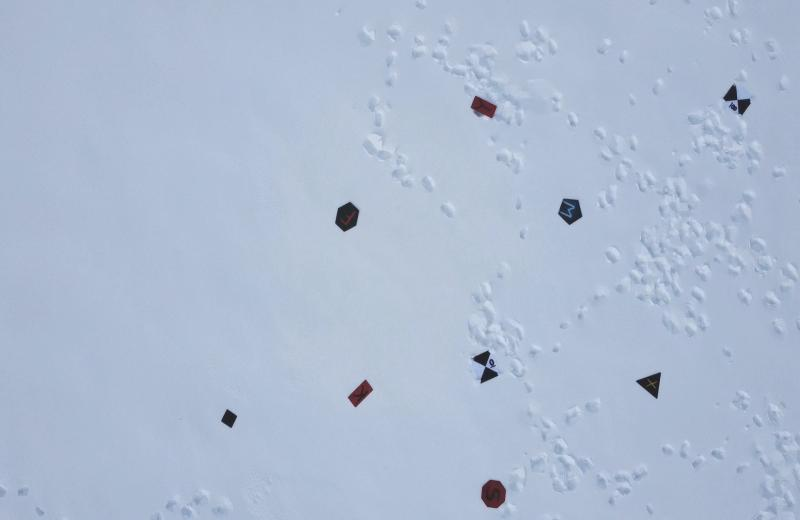Hexagon: (332, 204, 364, 233)
Octagon: (477, 479, 506, 513)
Pentagon: (556, 196, 585, 229)
Rectangle: (346, 378, 380, 409), (470, 92, 496, 124)
Square: (220, 410, 239, 430)
Triangle: (633, 365, 663, 402)
